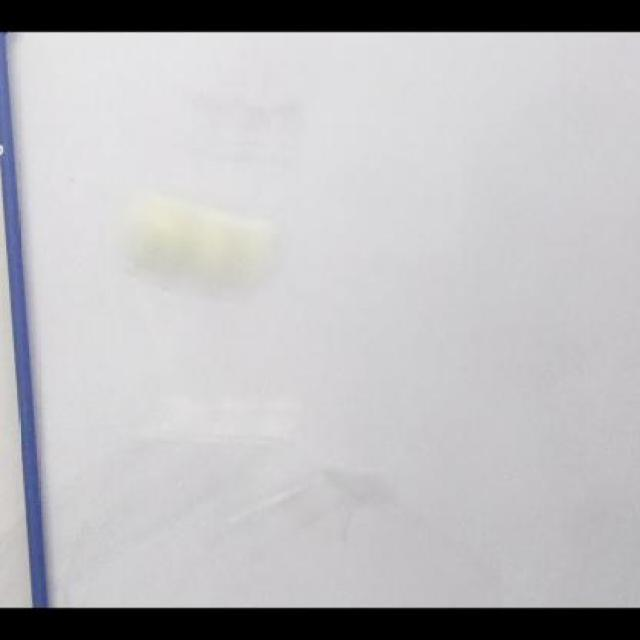baseball: (120, 192, 282, 298)
